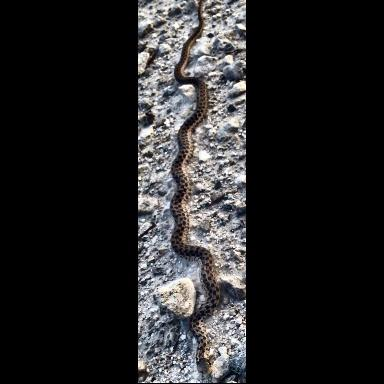snake: (171, 23, 221, 375)
